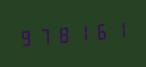eight: (54, 21, 71, 47)
nine: (17, 24, 34, 50)
one: (108, 16, 125, 42), (72, 20, 89, 45)
seven: (35, 23, 52, 48)
six: (90, 18, 107, 43)
